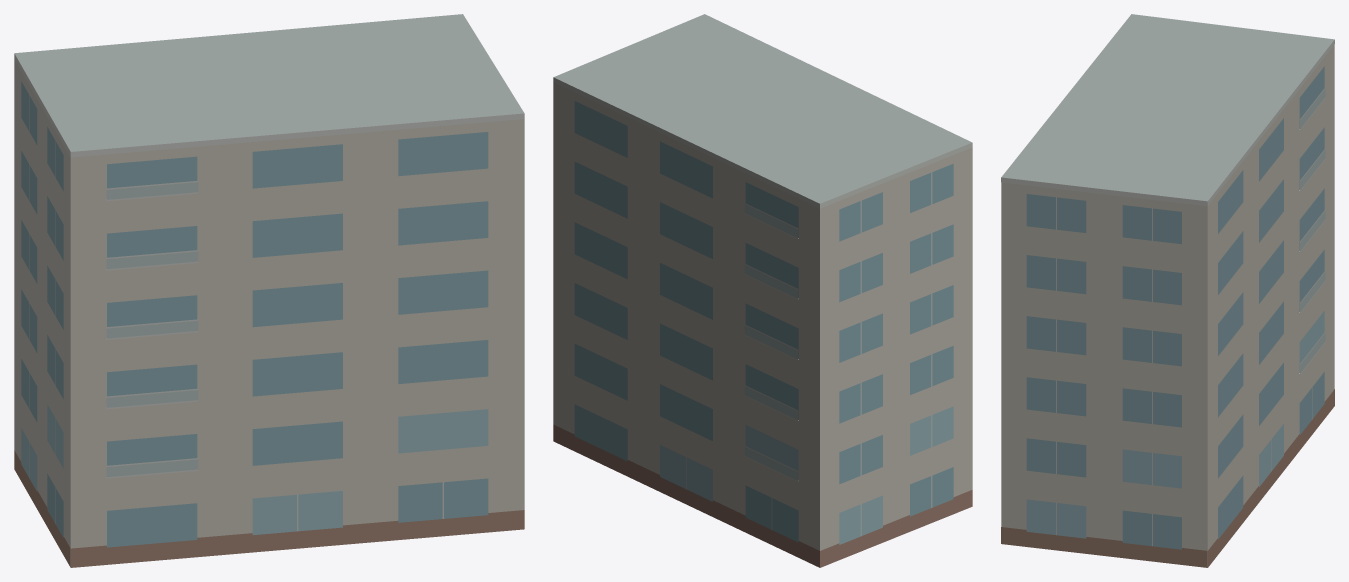
The model's file is survey-upis-32968773.glb.
3 renders of one model, left to right at view 1: azimuth 30°, elevation 25°; view 2: azimuth 150°, elevation 25°; view 3: azimuth 270°, elevation 25°, orthographic. The views are drawn at different scales.
Visible parts, largest first — view 1: survey-upis-32968773.tmp; view 2: survey-upis-32968773.tmp; view 3: survey-upis-32968773.tmp.
Boxes of the visible parts, bbox=[...] form: survey-upis-32968773.tmp: bbox=[14, 14, 524, 567]; survey-upis-32968773.tmp: bbox=[553, 14, 972, 567]; survey-upis-32968773.tmp: bbox=[1001, 14, 1334, 567].
Size of the model in its own units: 20.06 by 18.3 by 15.11.
